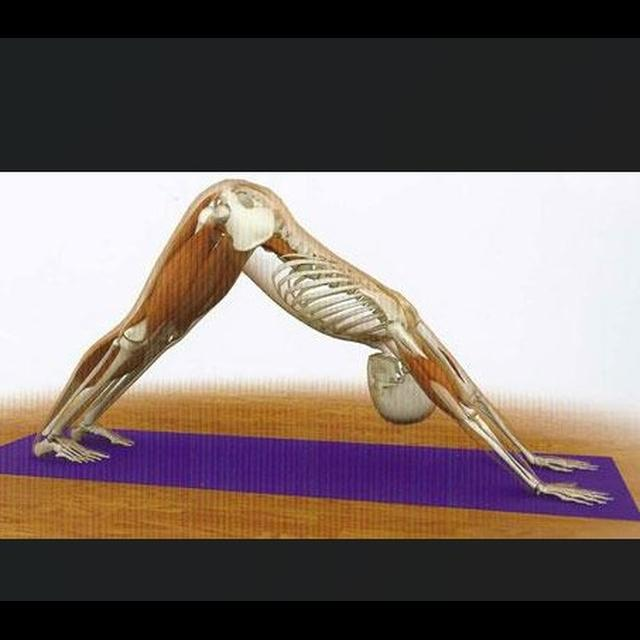Downward-Facing_Dog: (27, 177, 616, 513)
